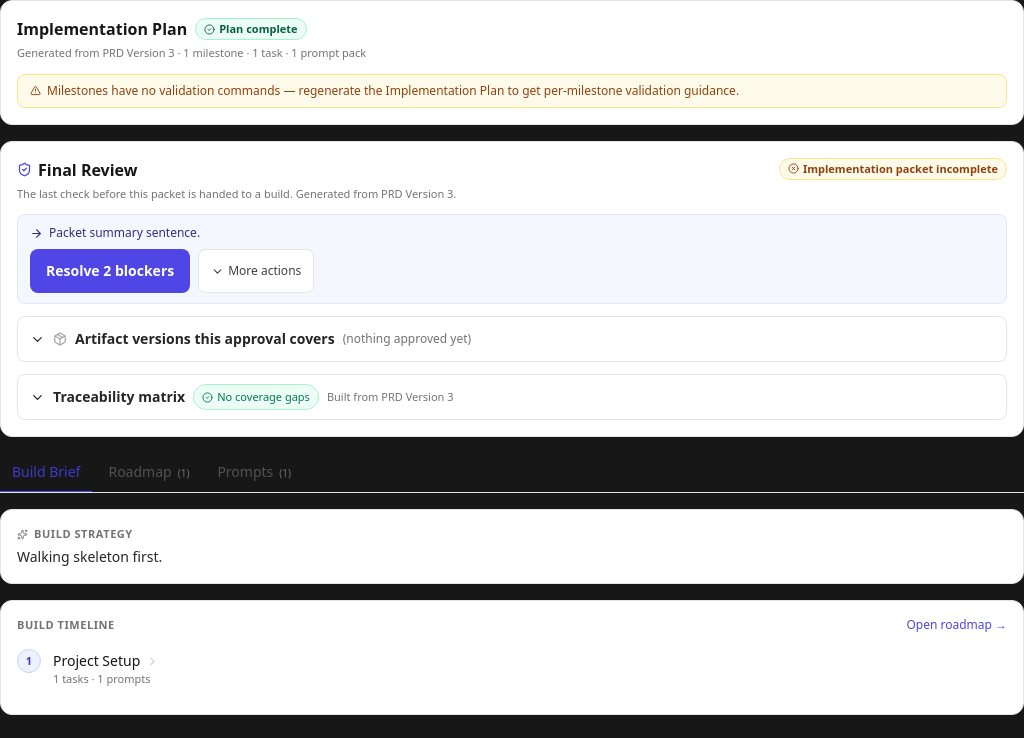
Test: Final Review — the one blocker list › labels an artifact-section target by the section it opens
The width and height of the screenshot is (1024, 738).
Step 1. Click the button with test id "final-review-primary" → (110, 271), box x1=30 y1=249 x2=190 y2=293
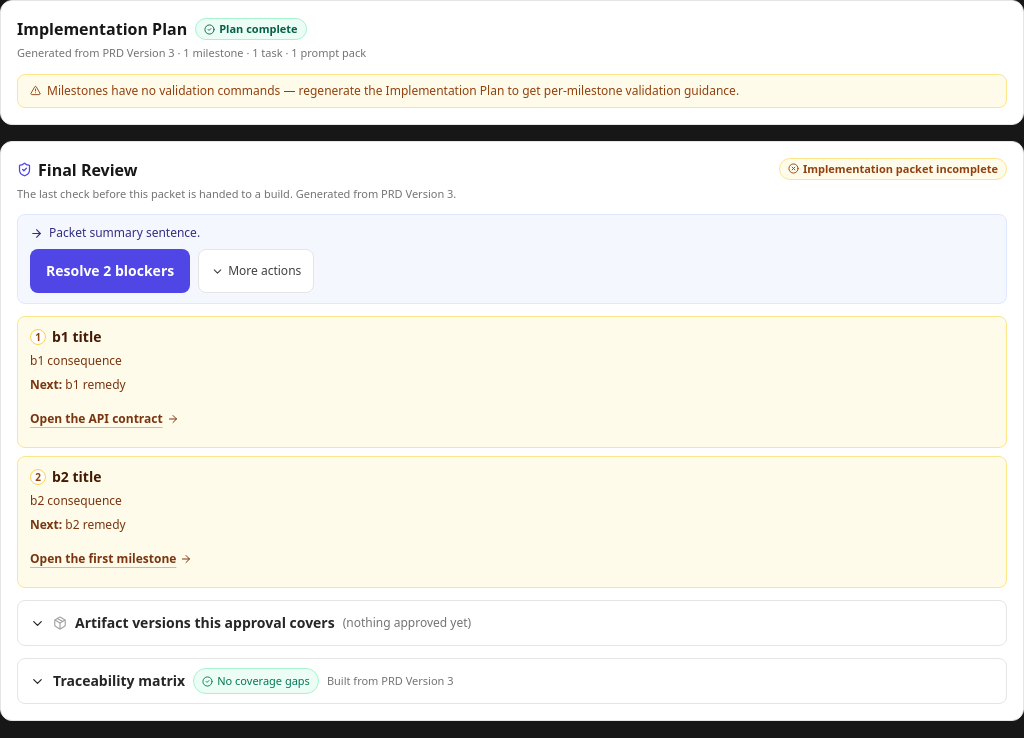
Now the elements with test id "final-review-blocker-action" read "Open the API contract", "Open the first milestone", in this order, box x1=30 y1=401 x2=179 y2=437; x1=30 y1=541 x2=192 y2=577
